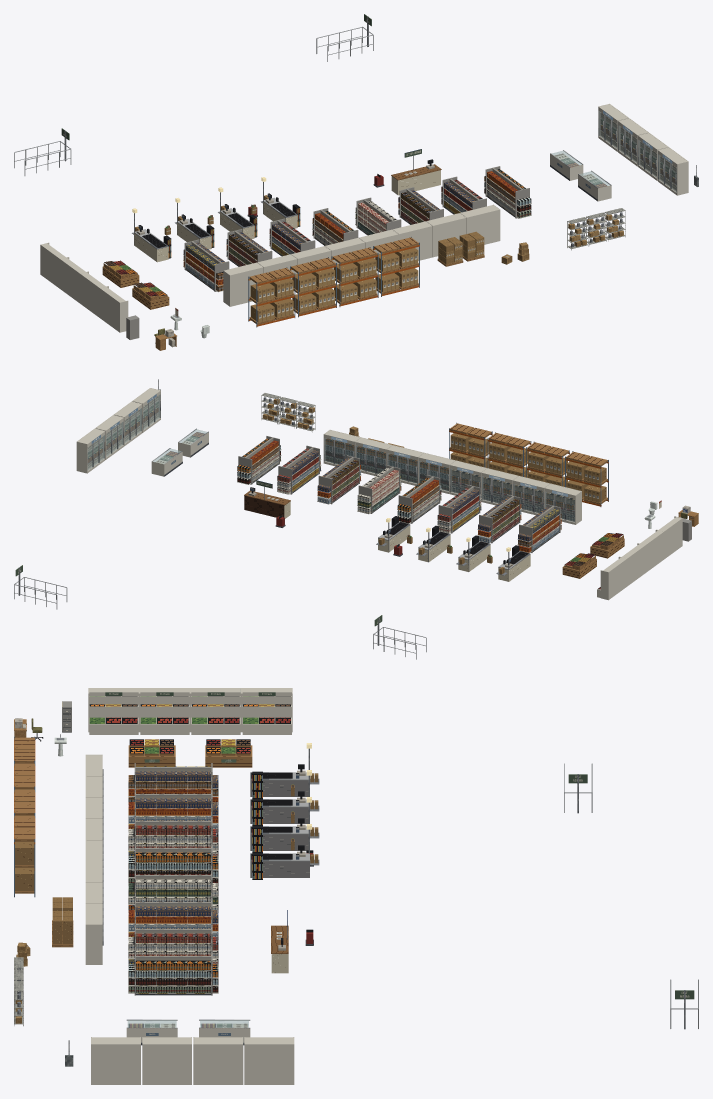
Rendered from COM_Supermarket_Furnishing.glb.
The picture shows the model from 3 angles, top to bottom: view 1: azimuth 30°, elevation 25°; view 2: azimuth 150°, elevation 25°; view 3: azimuth 270°, elevation 25°; orthographic projection. The views are drawn at different scales.
Visible parts, largest first — view 1: COM_Supermarket_Furnishing_Mesh; view 2: COM_Supermarket_Furnishing_Mesh; view 3: COM_Supermarket_Furnishing_Mesh.
Boxes of the visible parts, bbox=[...] form: COM_Supermarket_Furnishing_Mesh: bbox=[14, 14, 698, 350]; COM_Supermarket_Furnishing_Mesh: bbox=[14, 379, 698, 659]; COM_Supermarket_Furnishing_Mesh: bbox=[14, 688, 698, 1084].
Size of what is drawn, in the model's own units: 39.79 by 3.04 by 32.16.
Materials: 14 (14 with a texture image).
